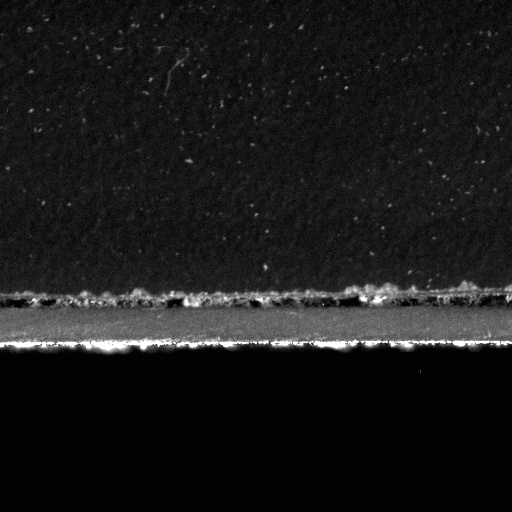jiaofeng: (388, 285, 511, 312), (272, 290, 360, 313), (0, 293, 69, 313)
